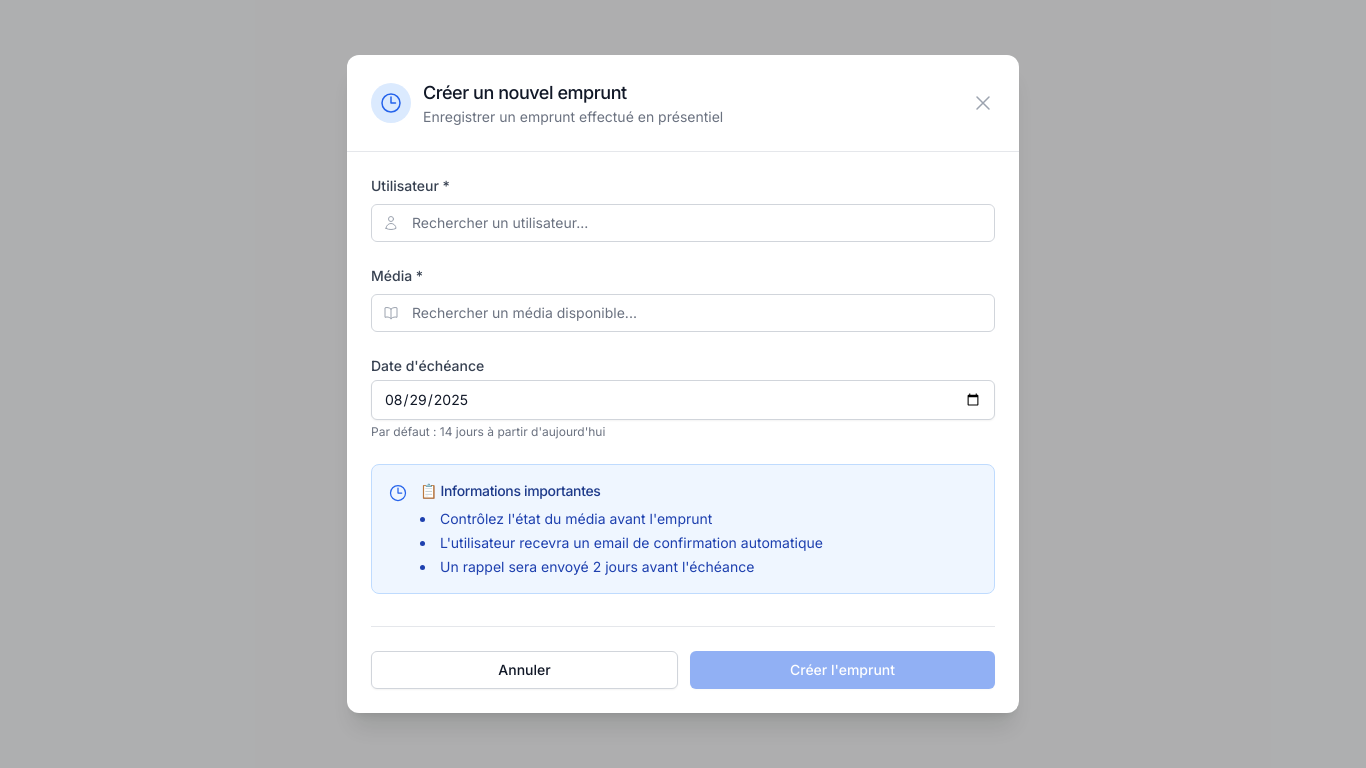
CreateBorrowModal › Recherche d'utilisateurs › devrait afficher l'utilisateur sélectionné avec ses informations
Type "John" into the field with placeholder "Rechercher un utilisateur..." at (683, 223), box [371,204,995,242]
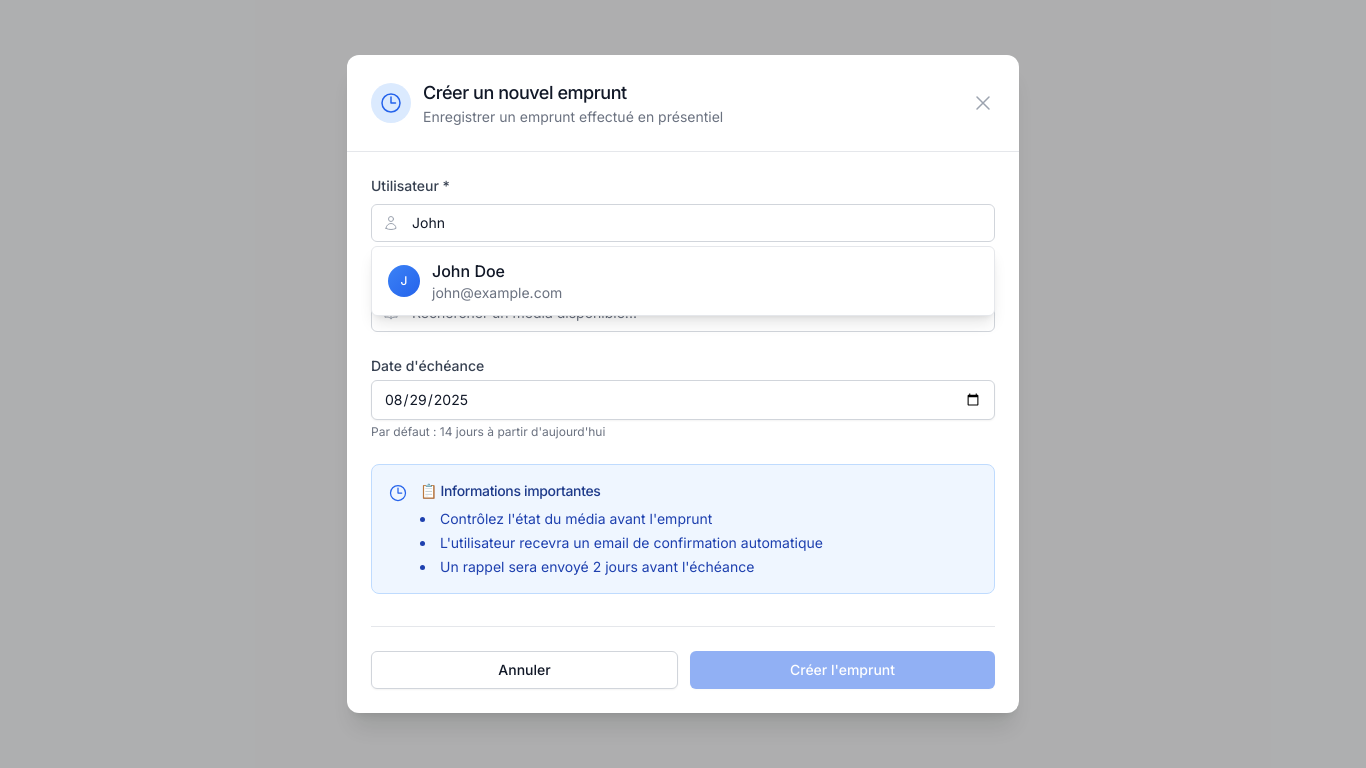
Click the button "J John Doe john@example.com" at (404, 281), box [372,247,994,315]
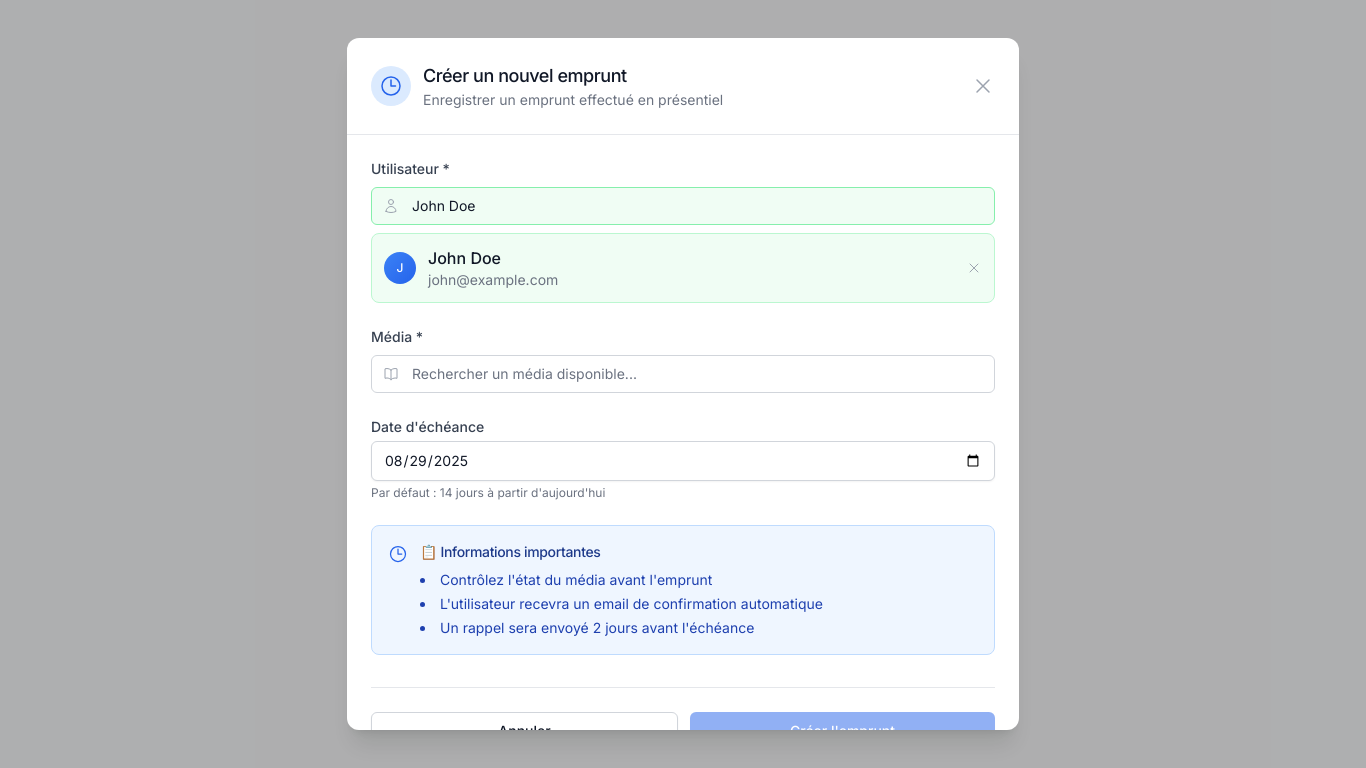
Result: the text "John Doe" is shown at [428,248,501,268]
Result: the text "john@example.com" is shown at [428,270,558,290]
Result: the field with placeholder "Rechercher un utilisateur..." holds "John Doe" at [371,187,995,225]
